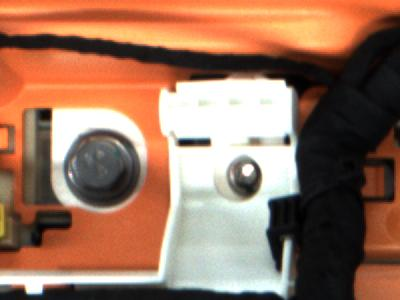nut_b: (59, 126, 149, 209)
